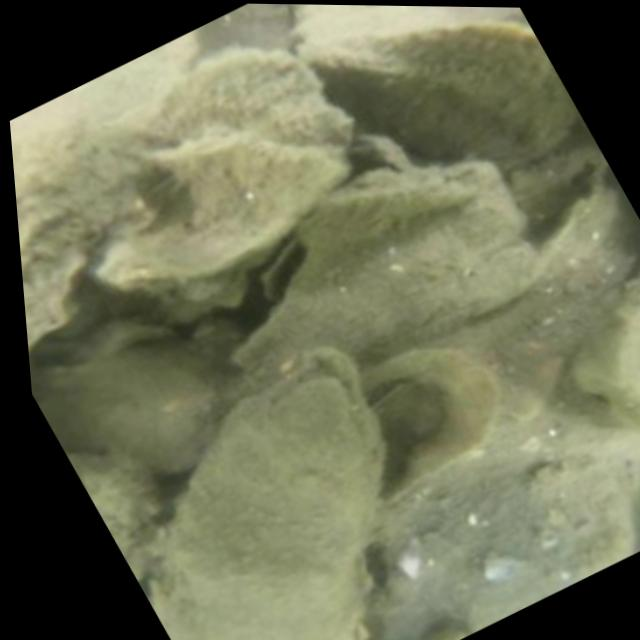Oyster-Closed: (147, 353, 391, 640), (91, 134, 410, 314)
Oyster-Indeterminate: (236, 160, 541, 383), (371, 443, 640, 640), (300, 18, 576, 167), (11, 127, 185, 347), (349, 344, 506, 513), (46, 336, 234, 472), (146, 47, 361, 159), (10, 26, 205, 140), (302, 177, 473, 261), (71, 453, 163, 567), (292, 4, 461, 41)
